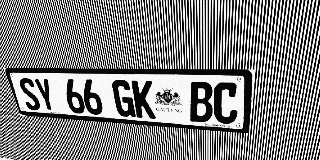6: (61, 79, 87, 114), (79, 79, 104, 115)
B: (189, 82, 213, 123)
C: (213, 82, 239, 125)
G: (111, 80, 136, 117)
K: (131, 80, 156, 119)
S: (17, 78, 42, 111)
Y: (33, 78, 58, 112)
